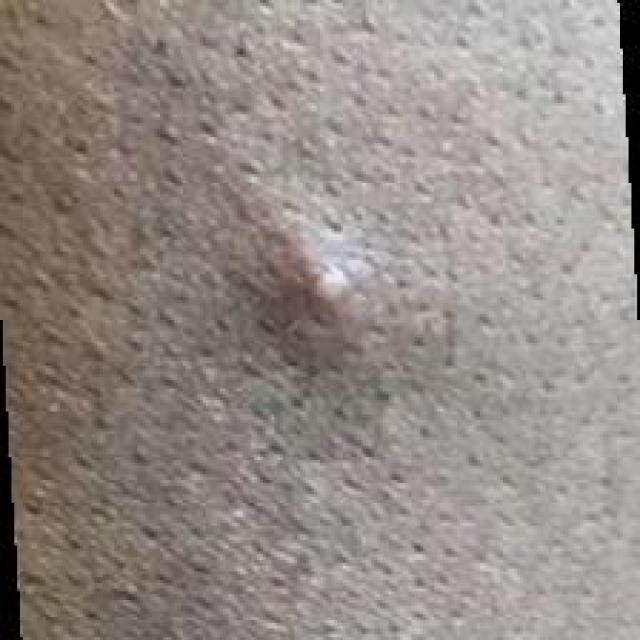monkeypox: (84, 78, 540, 567)
